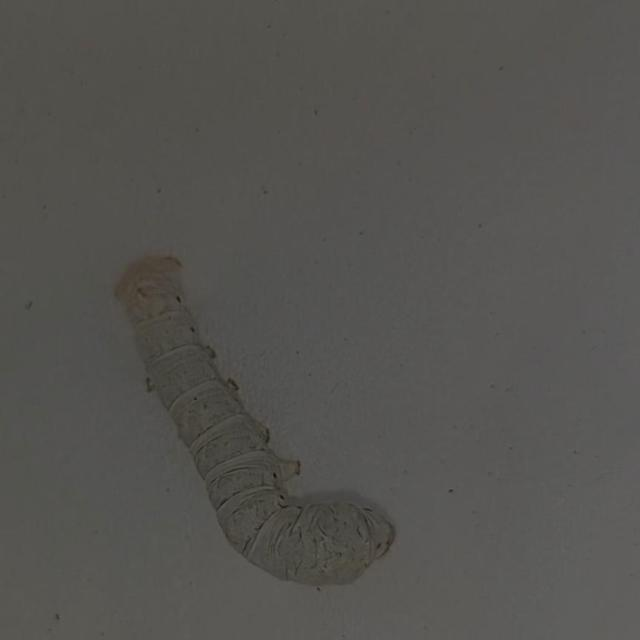Healthy: (84, 225, 428, 603)
